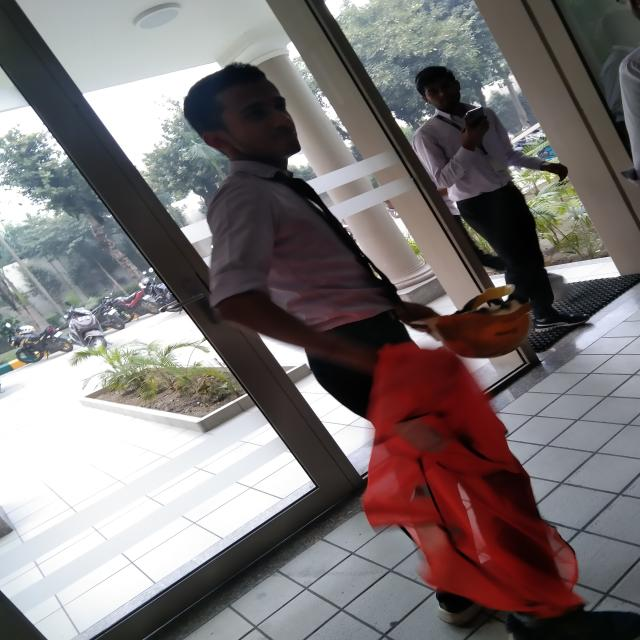unsafe: (184, 61, 640, 640), (403, 62, 593, 330)
